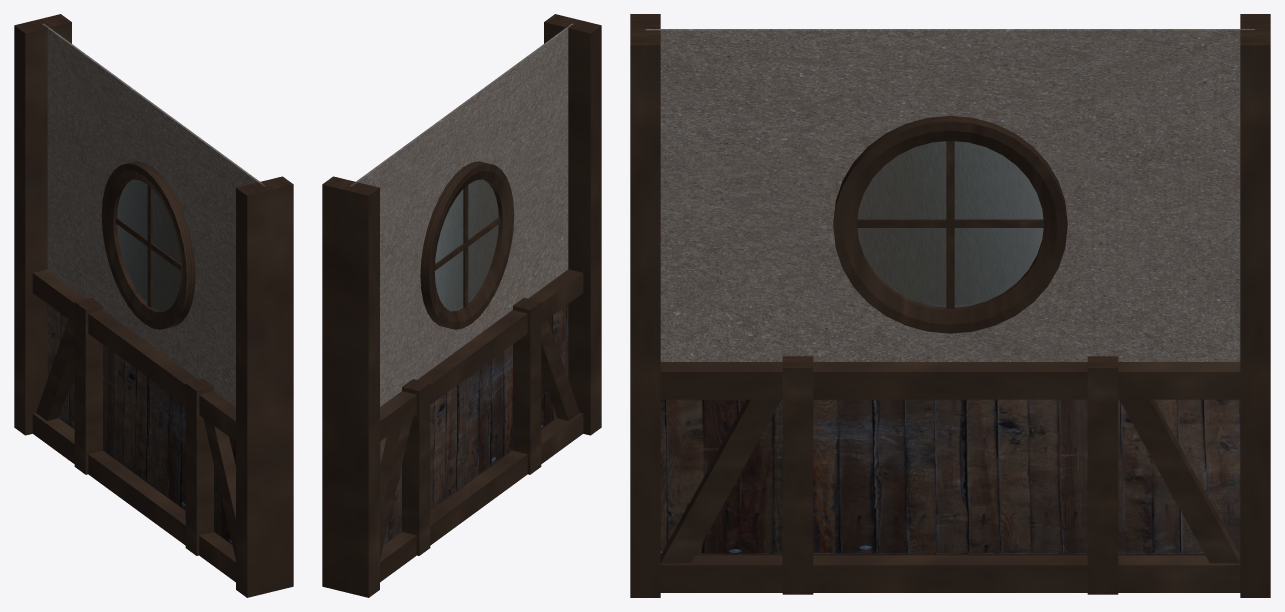
The model's file is OutdoorArchitecture_BasicWall04_Window02_BothEdges_BShortt.fbx.
3 views of the same model, side by side, from view 1: azimuth 30°, elevation 25°; view 2: azimuth 150°, elevation 25°; view 3: azimuth 270°, elevation 25° (orthographic). The views are drawn at different scales.
Parts seen in each view (by area): view 1: OutdoorArchitecture_BasicWall04_Window02_BothEdges_BShortt; view 2: OutdoorArchitecture_BasicWall04_Window02_BothEdges_BShortt; view 3: OutdoorArchitecture_BasicWall04_Window02_BothEdges_BShortt.
Boxes of the visible parts, x1,y1,x2,y2 form: OutdoorArchitecture_BasicWall04_Window02_BothEdges_BShortt: [14, 14, 293, 597]; OutdoorArchitecture_BasicWall04_Window02_BothEdges_BShortt: [322, 14, 601, 597]; OutdoorArchitecture_BasicWall04_Window02_BothEdges_BShortt: [630, 14, 1270, 597].
Size of the model in its own units: 36.37 by 300 by 315.
